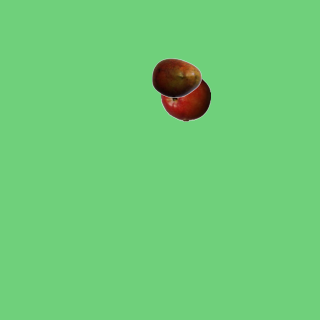Apple Braeburn: (160, 71, 210, 121)
Mango Red: (151, 52, 201, 102)
